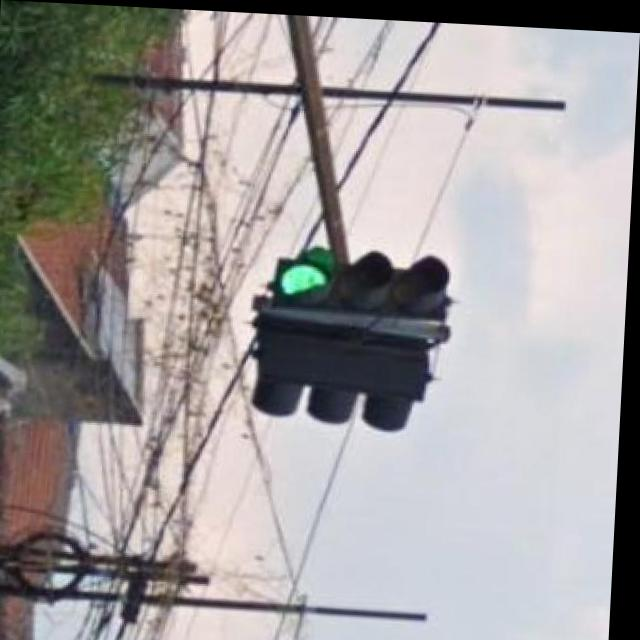green light: (275, 243, 452, 316)
